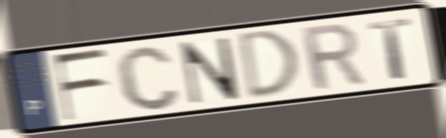C: (113, 42, 183, 113)
D: (238, 27, 302, 103)
F: (50, 46, 110, 124)
N: (178, 35, 242, 107)
R: (298, 20, 369, 94)
T: (365, 15, 415, 82)
